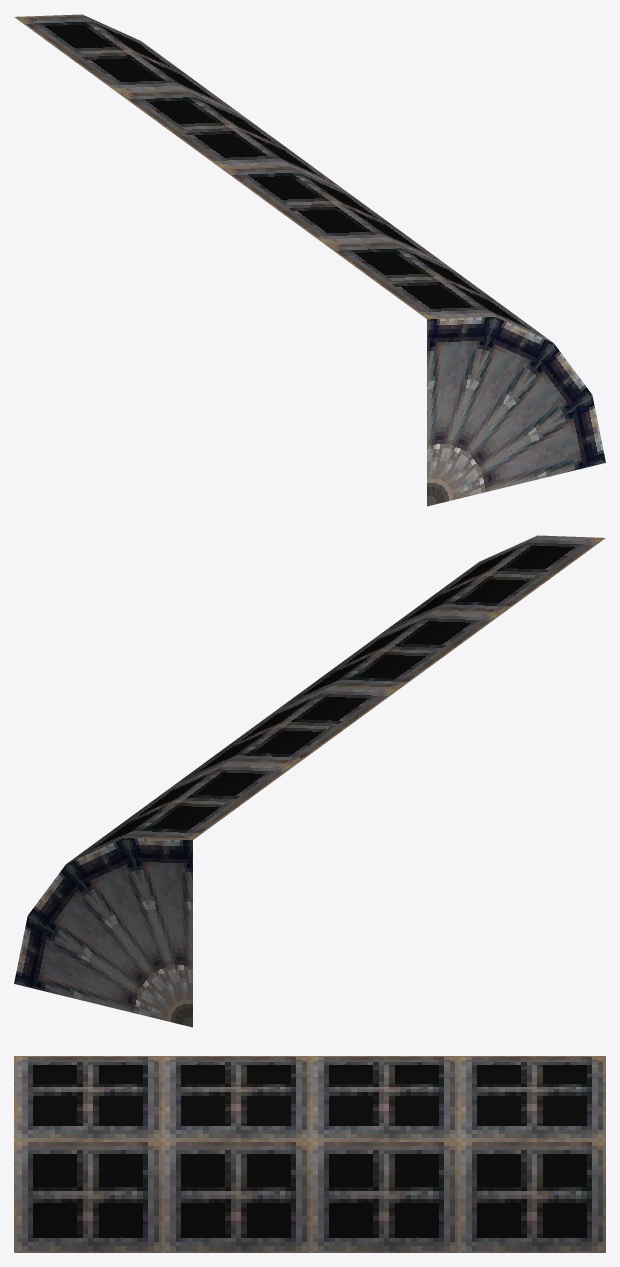
3 views of the same model, one above another, from view 1: azimuth 30°, elevation 25°; view 2: azimuth 150°, elevation 25°; view 3: azimuth 270°, elevation 25° (orthographic). The views are drawn at different scales.
Parts seen in each view (by area): view 1: Joke_obj_068; view 2: Joke_obj_068; view 3: Joke_obj_068.
Boxes of the visible parts, x1,y1,x2,y2 form: Joke_obj_068: (14, 14, 605, 506); Joke_obj_068: (14, 535, 605, 1027); Joke_obj_068: (14, 1056, 605, 1252).
Bounding box in the file's own units: 1 × 1 × 4.
2 materials, 2 textured.
